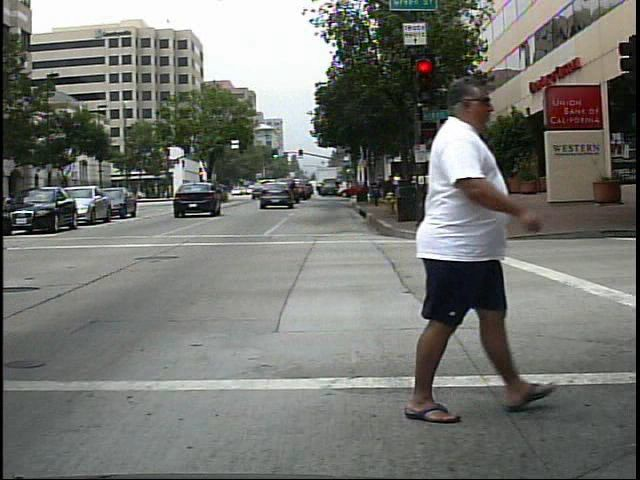person: (378, 72, 537, 423)
